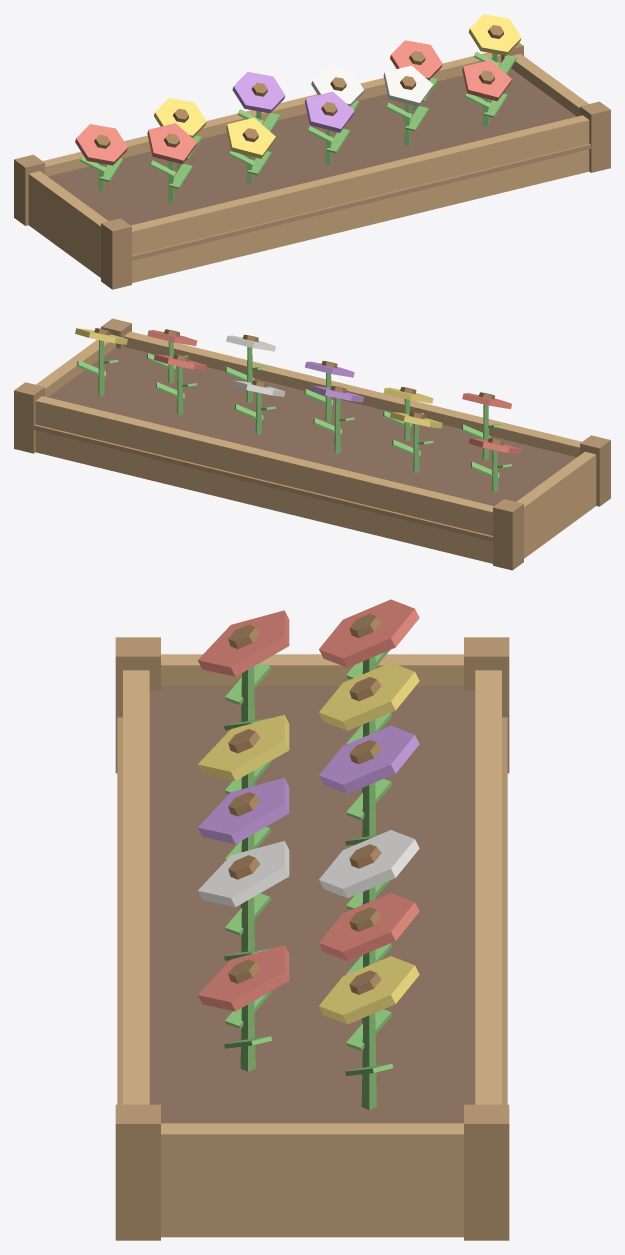
Rendered from flowerbed.glb.
3 views of the same model, one above another, from view 1: azimuth 30°, elevation 25°; view 2: azimuth 150°, elevation 25°; view 3: azimuth 270°, elevation 25° (orthographic). The views are drawn at different scales.
Visible parts, largest first — view 1: planks, soil, flowers_red, posts, flowers_petal, leaves, seams, flowers_flower, flowers_white, centres, stems; view 2: planks, soil, posts, stems, seams, leaves, flowers_red, flowers_petal, centres, flowers_white, flowers_flower; view 3: soil, planks, posts, flowers_red, flowers_petal, flowers_white, flowers_flower, centres, leaves, stems, seams.
Boxes of the visible parts, x1,y1,x2,y2 form: planks: [28, 52, 589, 282]; soil: [48, 68, 576, 225]; flowers_red: [75, 40, 511, 165]; posts: [14, 43, 610, 289]; flowers_petal: [154, 14, 521, 158]; leaves: [80, 51, 516, 188]; seams: [132, 143, 590, 260]; flowers_flower: [232, 72, 354, 132]; flowers_white: [311, 65, 433, 106]; centres: [94, 25, 503, 148]; stems: [98, 53, 497, 203]; planks: [35, 331, 596, 563]; soil: [48, 346, 576, 506]; posts: [14, 318, 610, 570]; stems: [98, 340, 498, 492]; seams: [34, 424, 492, 541]; leaves: [77, 353, 511, 479]; flowers_red: [147, 330, 521, 454]; flowers_petal: [75, 328, 442, 428]; centres: [94, 328, 503, 444]; flowers_white: [226, 335, 285, 396]; flowers_flower: [305, 361, 363, 402]; soil: [149, 686, 475, 1123]; planks: [123, 654, 501, 1237]; posts: [115, 637, 509, 1240]; flowers_red: [197, 599, 419, 1011]; flowers_petal: [197, 662, 419, 1024]; flowers_white: [198, 830, 419, 907]; flowers_flower: [197, 725, 419, 843]; centres: [228, 614, 381, 994]; leaves: [224, 650, 393, 1075]; stems: [240, 656, 376, 1109]; seams: [117, 717, 507, 1104].
Size of the model in its own units: 3.04 by 0.6528 by 1.04.
